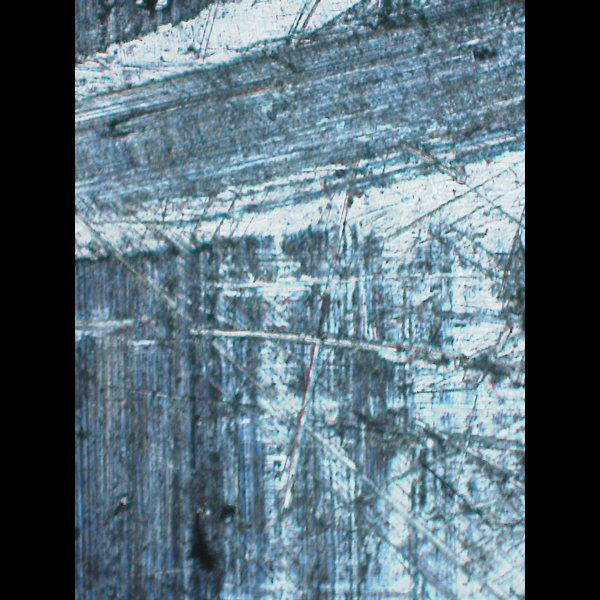d: (198, 0, 524, 592), (77, 0, 524, 270)
